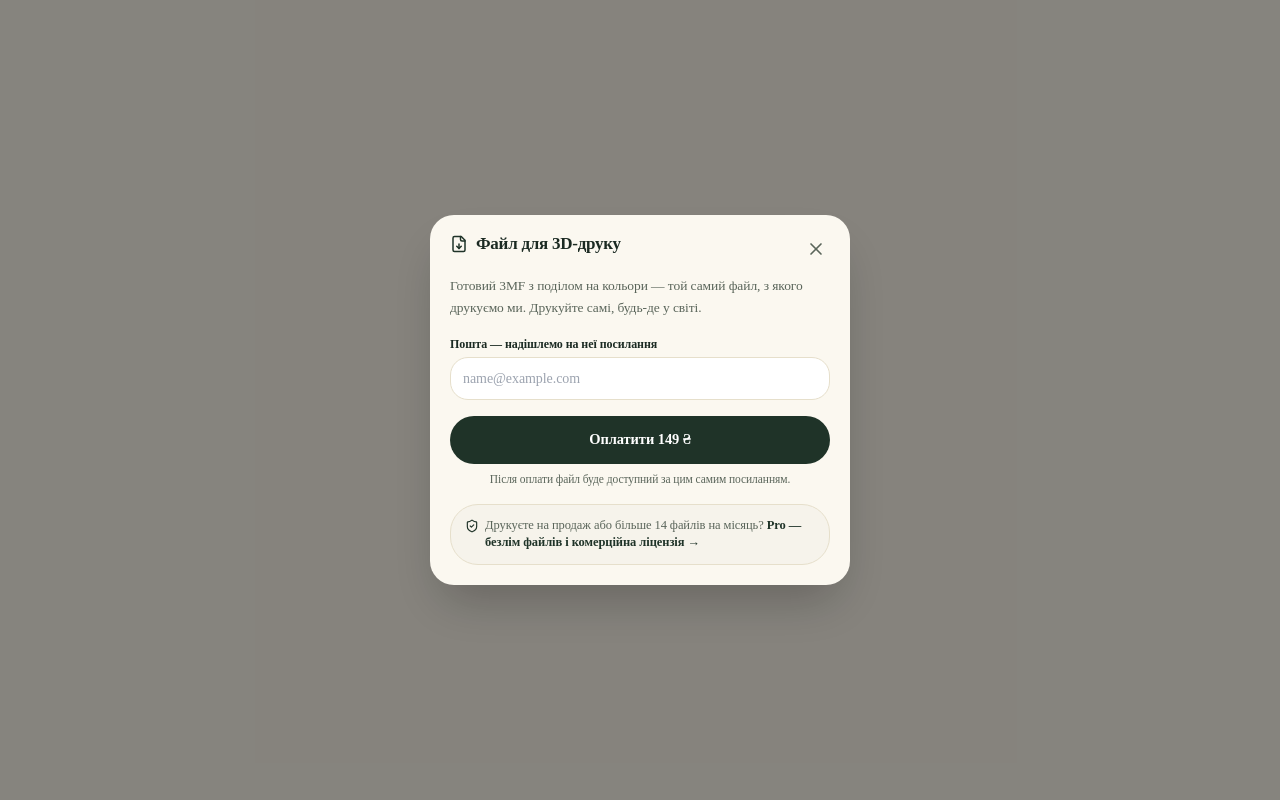
Scenario: BuyFileDialog · купівля друк-файлу › збій платежу пояснюється, а не лишає порожній екран
expect the button with test id "buy-file-pay" is shown: met, box x1=450 y1=416 x2=830 y2=464
Type "a@example.com" into the field with test id "buy-file-email" at (640, 379), box x1=450 y1=357 x2=830 y2=400
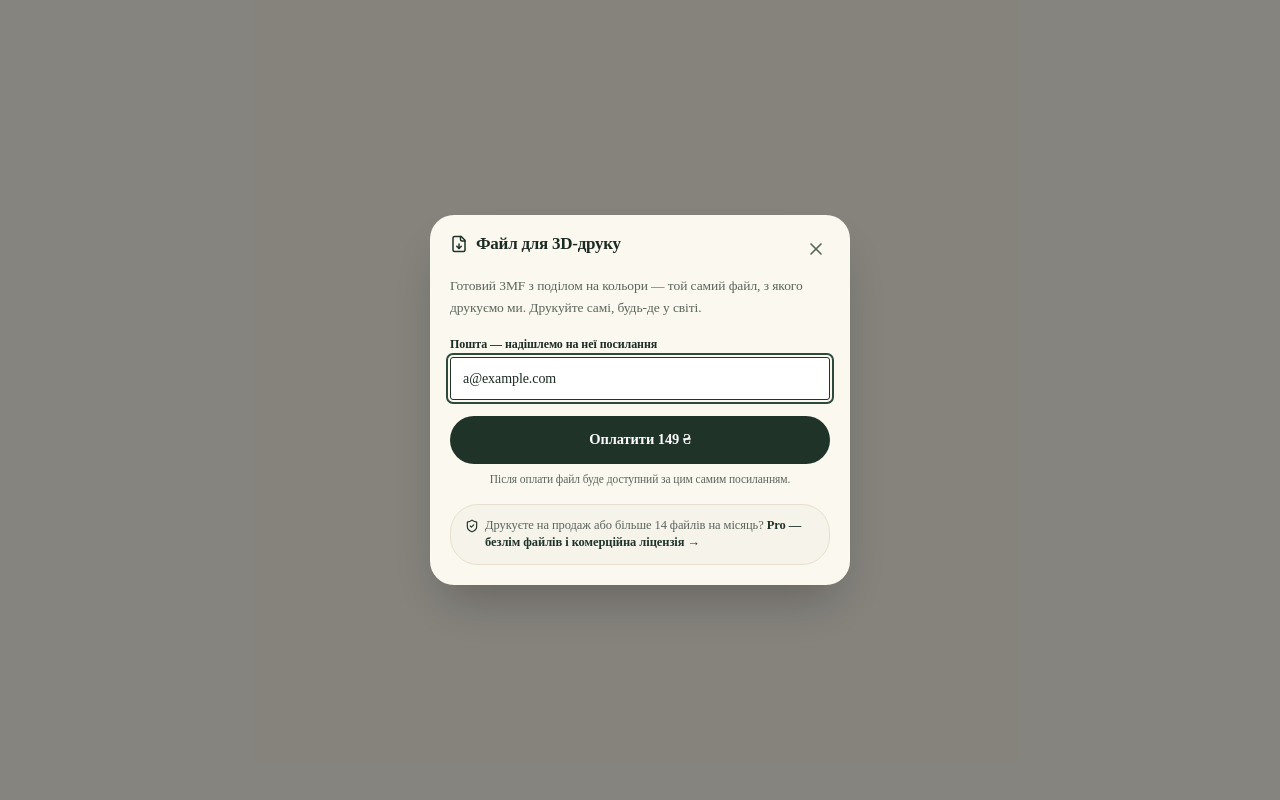
Click the button with test id "buy-file-pay" at (640, 440), box x1=450 y1=416 x2=830 y2=464
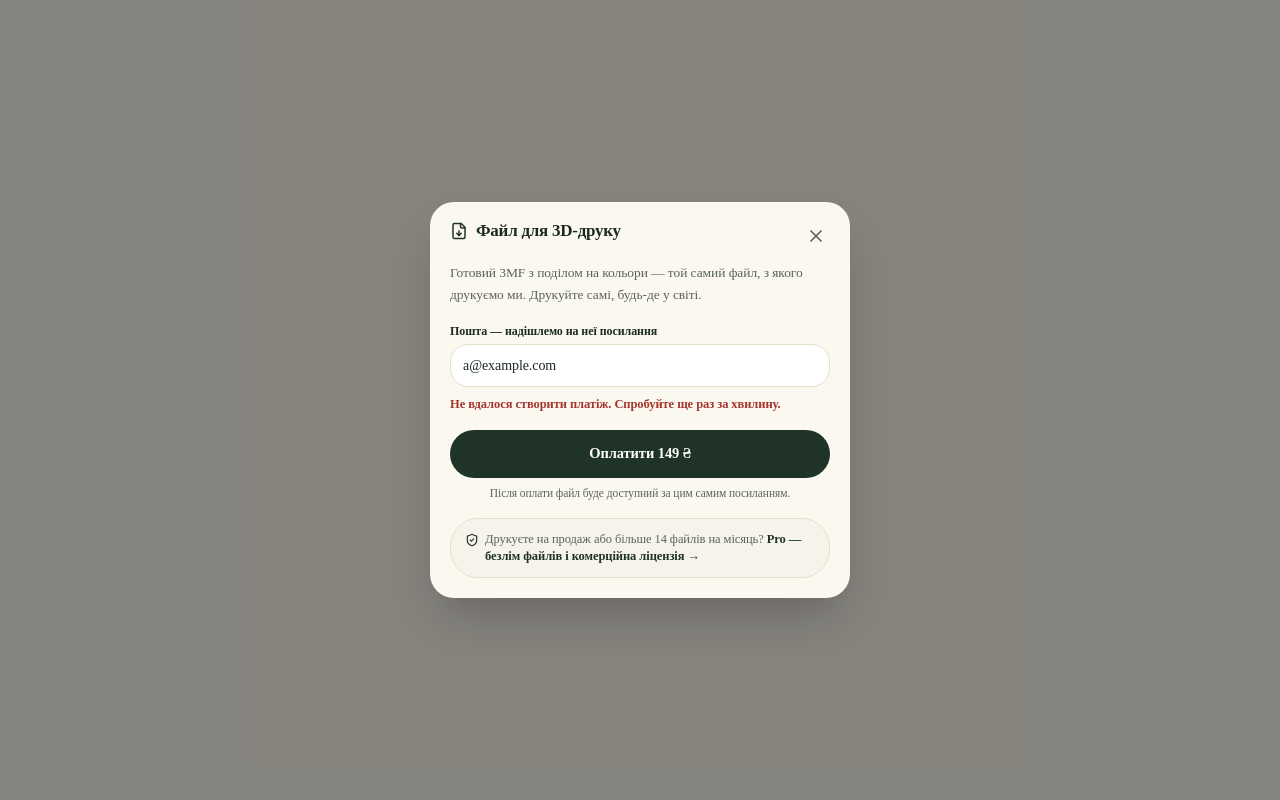
expect the text with test id "buy-file-error" reads "Не вдалося створити платіж. Спробуйте ще раз за хвилину.": met, box x1=450 y1=397 x2=780 y2=411
